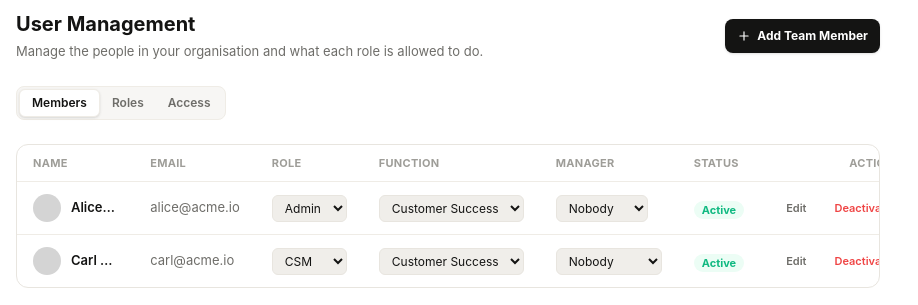
Test: UserManagement page › deactivates a member from the row action
Click the button "Deactivate" in the row of "Carl CSM" at (863, 261), box [824, 249, 902, 273]
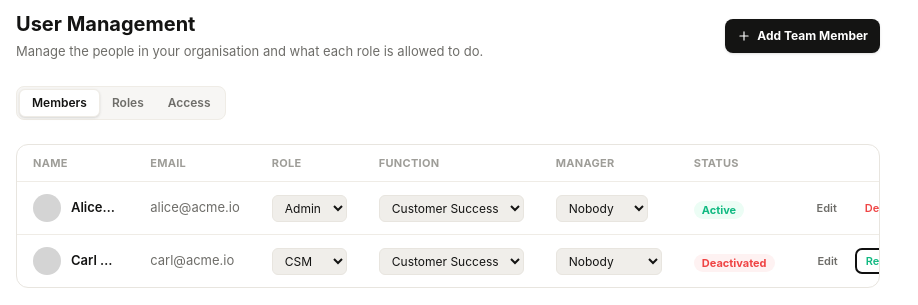
expect the text "Deactivated" is shown: met, box [694, 254, 775, 272]
